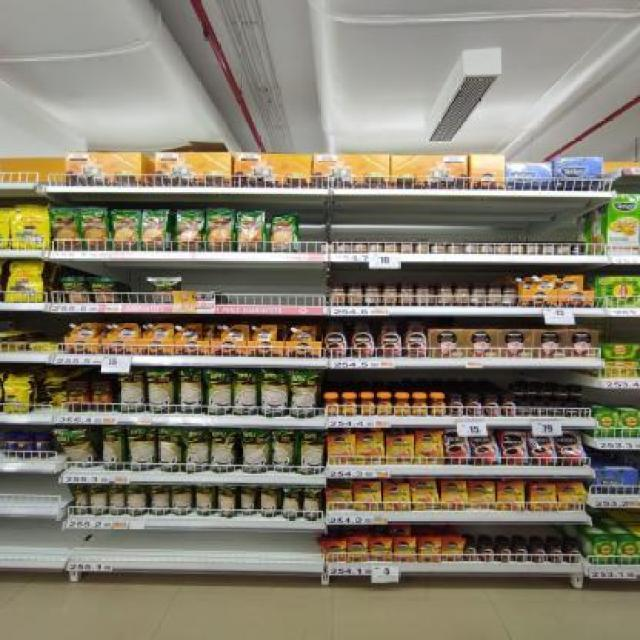Coffee: (470, 430, 501, 464), (501, 431, 529, 465), (415, 431, 443, 465), (528, 432, 556, 466), (445, 429, 471, 465), (556, 430, 583, 464), (324, 319, 348, 357), (356, 433, 384, 465), (405, 320, 428, 358), (498, 481, 526, 512), (327, 434, 355, 464), (441, 479, 468, 510), (353, 320, 375, 358), (378, 320, 400, 358), (411, 480, 439, 509), (354, 482, 382, 511), (386, 435, 414, 463), (468, 481, 495, 510), (531, 483, 558, 511), (384, 484, 412, 511), (558, 482, 585, 509), (326, 490, 353, 511), (418, 539, 440, 562), (442, 539, 464, 561), (370, 539, 392, 561), (393, 540, 415, 562), (348, 540, 368, 563), (323, 542, 345, 562), (323, 394, 340, 416), (394, 394, 410, 416), (359, 394, 375, 416), (377, 394, 393, 416), (430, 395, 446, 417), (342, 393, 358, 415), (412, 393, 428, 415), (548, 543, 564, 564), (484, 394, 498, 416), (449, 393, 463, 415), (467, 394, 481, 416), (478, 543, 494, 562), (566, 543, 580, 564), (512, 543, 528, 561), (502, 395, 515, 417), (531, 543, 545, 562), (497, 544, 511, 562), (465, 542, 477, 561), (527, 385, 541, 399), (565, 404, 578, 417), (533, 402, 545, 416), (519, 402, 531, 416), (548, 402, 560, 416), (543, 386, 555, 399), (579, 403, 591, 415), (570, 387, 582, 399), (557, 387, 569, 399), (514, 386, 523, 397)
